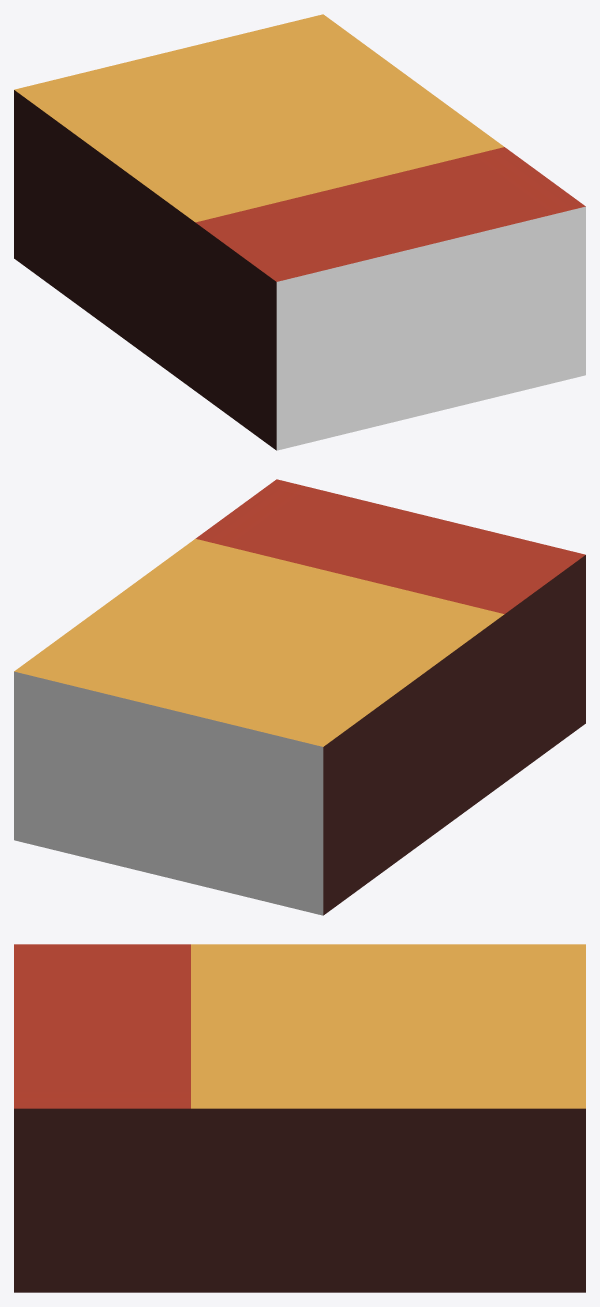
Rendered from Matchbox_01.fbx.
3 views of the same model, one above another, from view 1: azimuth 30°, elevation 25°; view 2: azimuth 150°, elevation 25°; view 3: azimuth 270°, elevation 25° (orthographic). The views are drawn at different scales.
Parts seen in each view (by area): view 1: Matchbox_01; view 2: Matchbox_01; view 3: Matchbox_01.
Part boxes in pixels (x1,y1,x2,y2): Matchbox_01: (14,14,585,450); Matchbox_01: (14,479,585,915); Matchbox_01: (14,944,585,1292).
Bounding box in the file's own units: 3.49 × 1.82 × 5.13.
